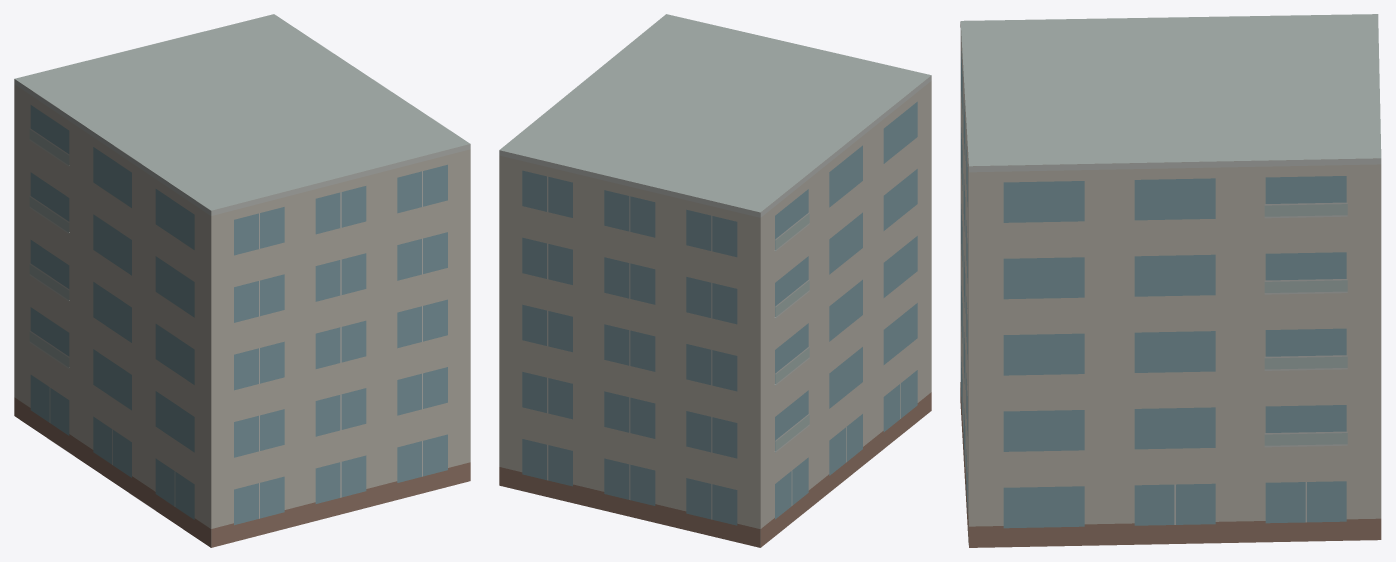
Rendered from survey-upis-32732904.glb.
The picture shows the model from 3 angles, left to right: view 1: azimuth 30°, elevation 25°; view 2: azimuth 150°, elevation 25°; view 3: azimuth 270°, elevation 25°; orthographic projection. The views are drawn at different scales.
Visible parts, largest first — view 1: survey-upis-32732904.tmp; view 2: survey-upis-32732904.tmp; view 3: survey-upis-32732904.tmp.
Boxes of the visible parts, x1,y1,x2,y2 form: survey-upis-32732904.tmp: (14, 14, 470, 547); survey-upis-32732904.tmp: (499, 14, 931, 547); survey-upis-32732904.tmp: (960, 14, 1381, 547).
Bounding box in the file's own units: 13.05 × 15.25 × 15.25.
